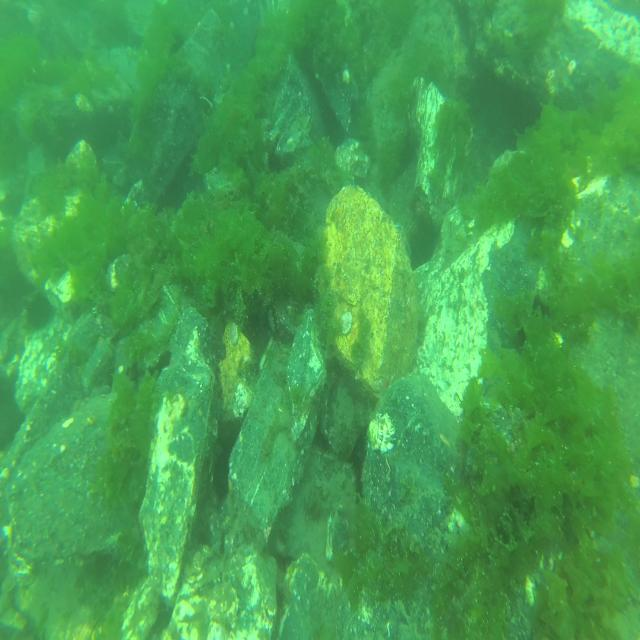echinus: (26, 297, 49, 332), (532, 293, 550, 322), (264, 148, 281, 176)
